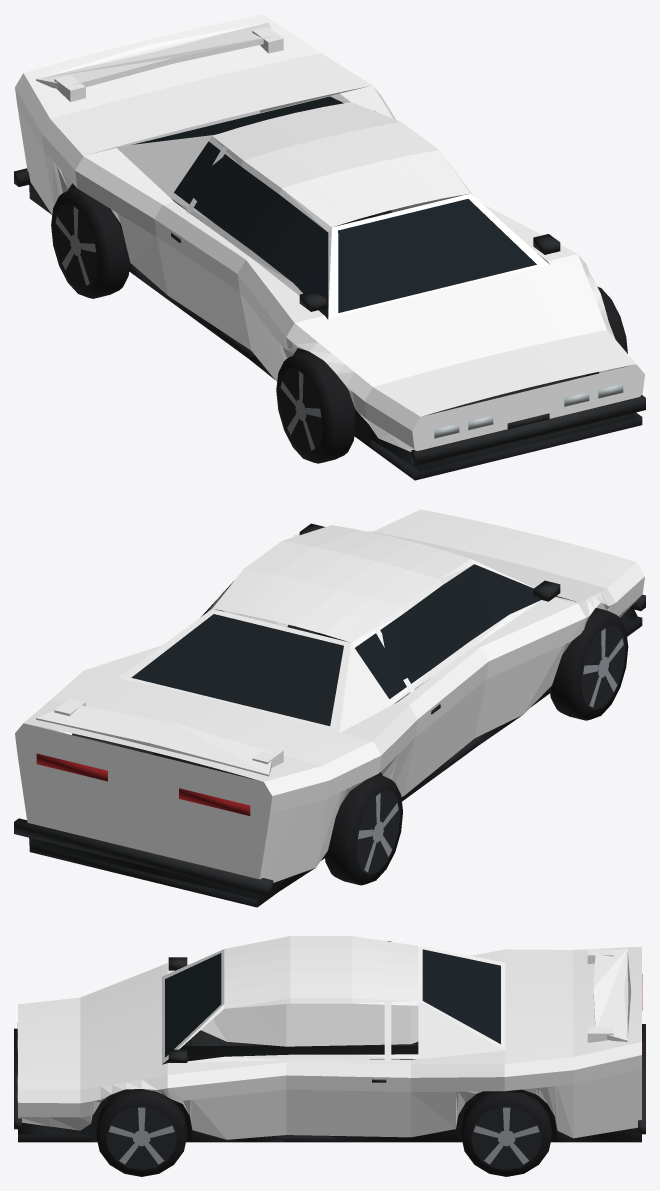
Rendered from taurenza_lacraia.glb.
3 renders of one model, top to bottom at view 1: azimuth 30°, elevation 25°; view 2: azimuth 150°, elevation 25°; view 3: azimuth 270°, elevation 25°, orthographic. The views are drawn at different scales.
Visible parts, largest first — view 1: Body_Paint, Body_Details, Mount_FrontLeft_Wheel_Details, Mount_RearLeft_Wheel_Details, Mount_FrontRight_Wheel_Details; view 2: Body_Paint, Body_Details, Mount_RearLeft_Wheel_Details, Mount_FrontLeft_Wheel_Details; view 3: Body_Paint, Body_Details, Mount_FrontRight_Wheel_Details, Mount_RearRight_Wheel_Details.
Part boxes in pixels (bbox=[...]): Body_Paint: bbox=[15, 14, 644, 451]; Body_Details: bbox=[14, 96, 645, 480]; Mount_FrontLeft_Wheel_Details: bbox=[276, 351, 355, 463]; Mount_RearLeft_Wheel_Details: bbox=[51, 188, 130, 298]; Mount_FrontRight_Wheel_Details: bbox=[597, 286, 627, 353]; Body_Paint: bbox=[15, 509, 644, 882]; Body_Details: bbox=[14, 523, 645, 907]; Mount_RearLeft_Wheel_Details: bbox=[324, 774, 402, 885]; Mount_FrontLeft_Wheel_Details: bbox=[549, 608, 628, 720]; Body_Paint: bbox=[18, 936, 641, 1139]; Body_Details: bbox=[14, 949, 645, 1142]; Mount_FrontRight_Wheel_Details: bbox=[96, 1089, 187, 1176]; Mount_RearRight_Wheel_Details: bbox=[461, 1091, 552, 1176].
Bounding box in the file's own units: 1.98 × 1.18 × 4.36.
2 materials, 1 textured.
